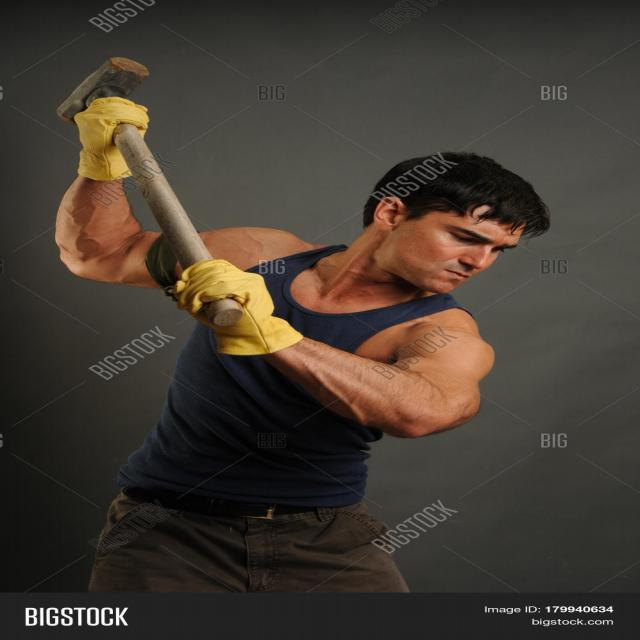hammer: (48, 53, 250, 334)
